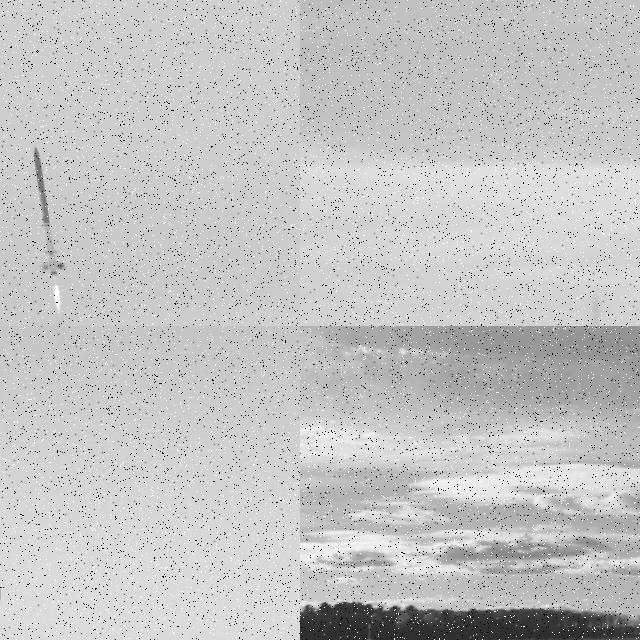Rocket: (31, 146, 69, 278), (591, 296, 602, 326), (367, 623, 371, 640)
